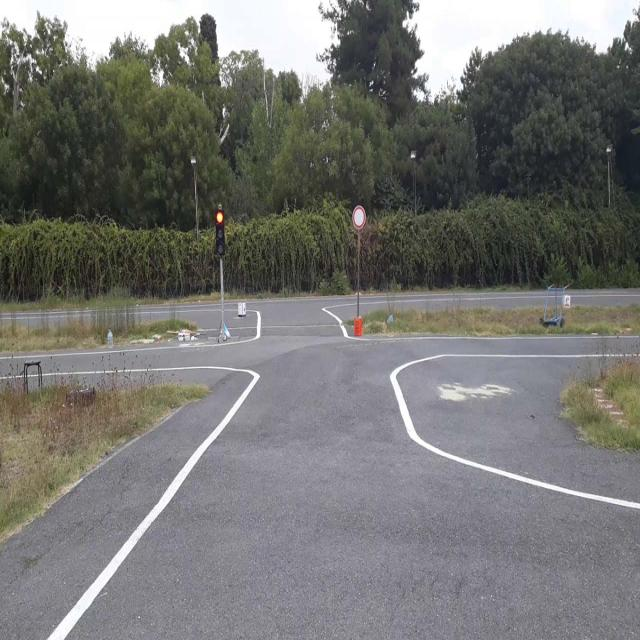kirmizi: (217, 211, 226, 254)
